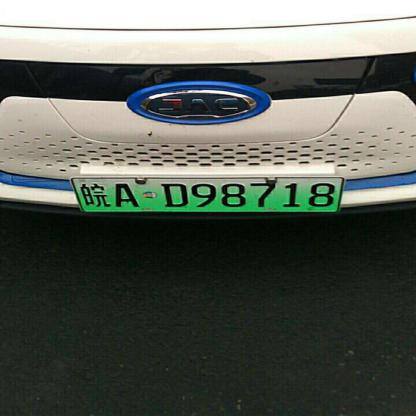lp: (70, 177, 345, 211)
